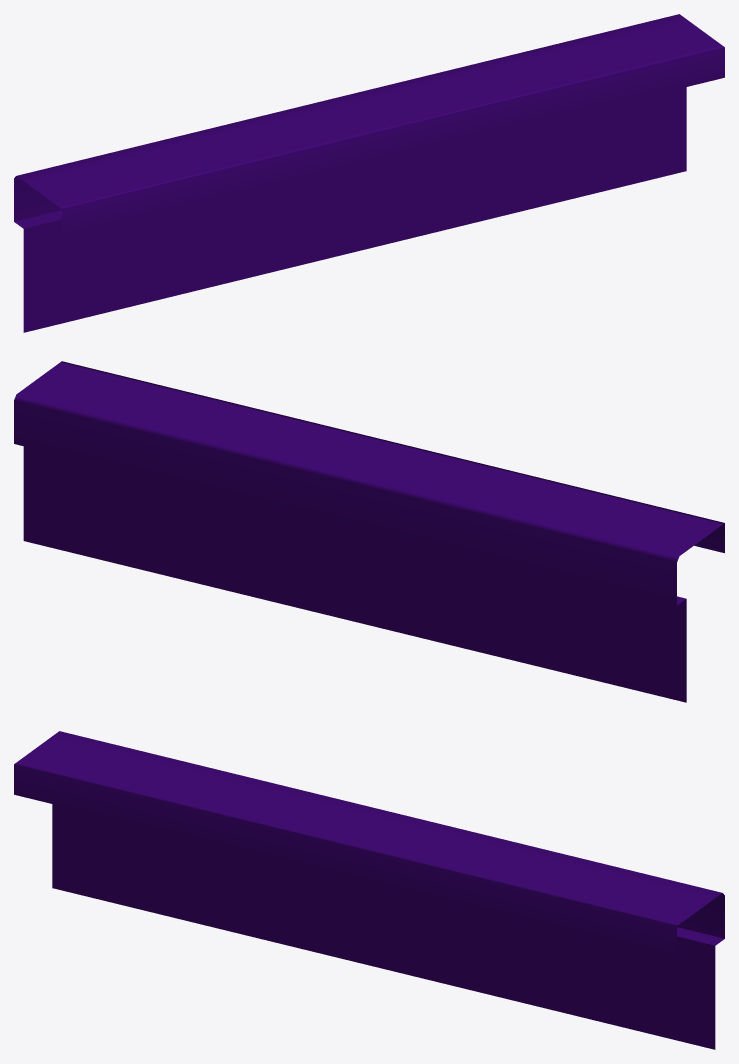
File: border_cushion_straight_a.fbx
3 renders of one model, top to bottom at view 1: azimuth 30°, elevation 25°; view 2: azimuth 150°, elevation 25°; view 3: azimuth 330°, elevation 25°, orthographic.
Parts seen in each view (by area): view 1: lod0; view 2: lod0; view 3: lod0.
Part boxes in pixels (box(x1,y1,x2,y2)): lod0: box(14, 14, 724, 332); lod0: box(14, 361, 724, 702); lod0: box(14, 731, 724, 1049).
Size of the model in its own units: 40 by 8.75 by 5.
